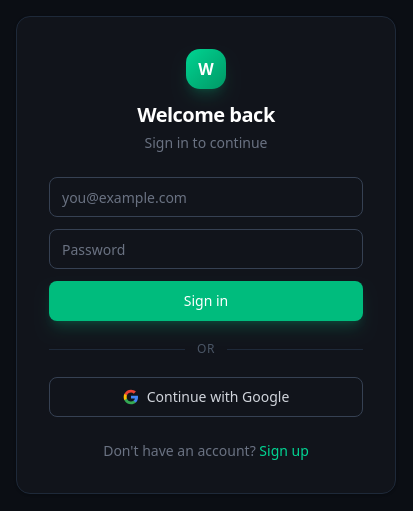
Test case: Auth — mode toggle › toggles back to login mode from sign-up
What coordinates should you click on to do the following:
click the button "Sign up"
I would click on:
 (284, 451)
Its box is [259,441,309,461].
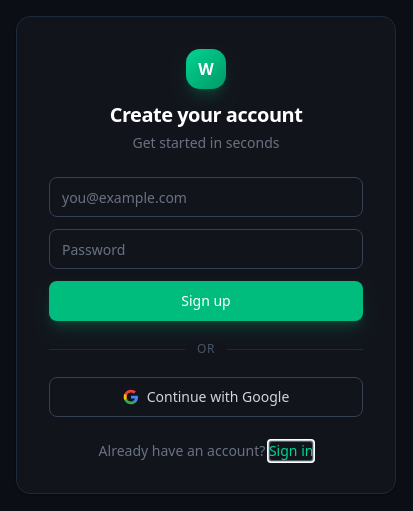
What coordinates should you click on to do the following:
click the button "Sign in"
I would click on:
 (291, 451)
Its box is [269,441,313,461].
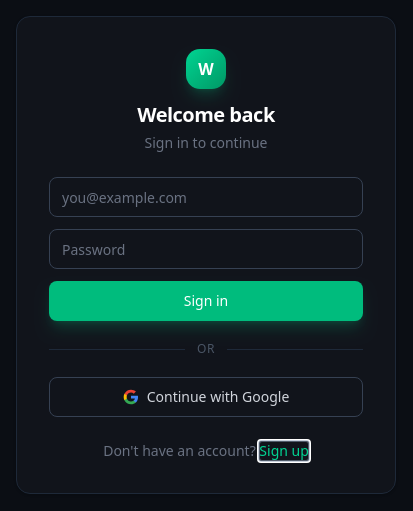
Result: the heading "Welcome back" is shown at [137,101,275,128]
